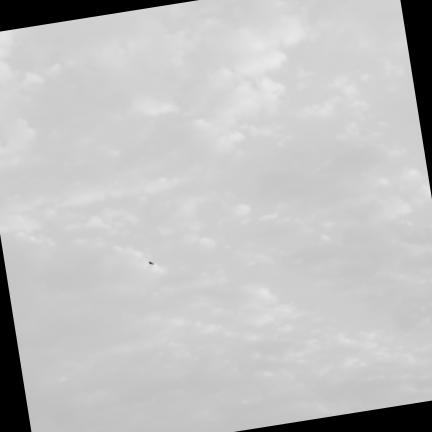Shahed: (149, 261, 154, 264)
